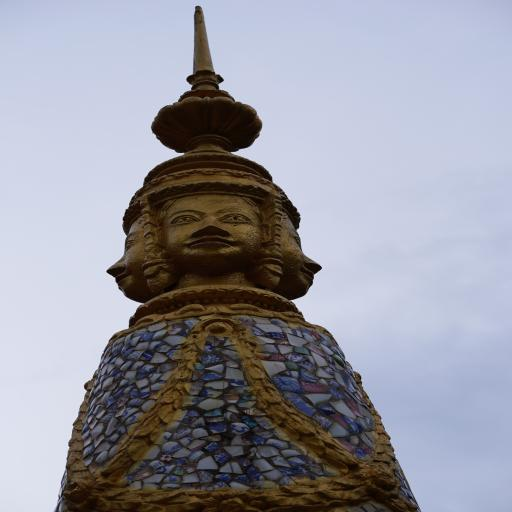lua: (123, 5, 250, 100)
than: (77, 144, 342, 312)
